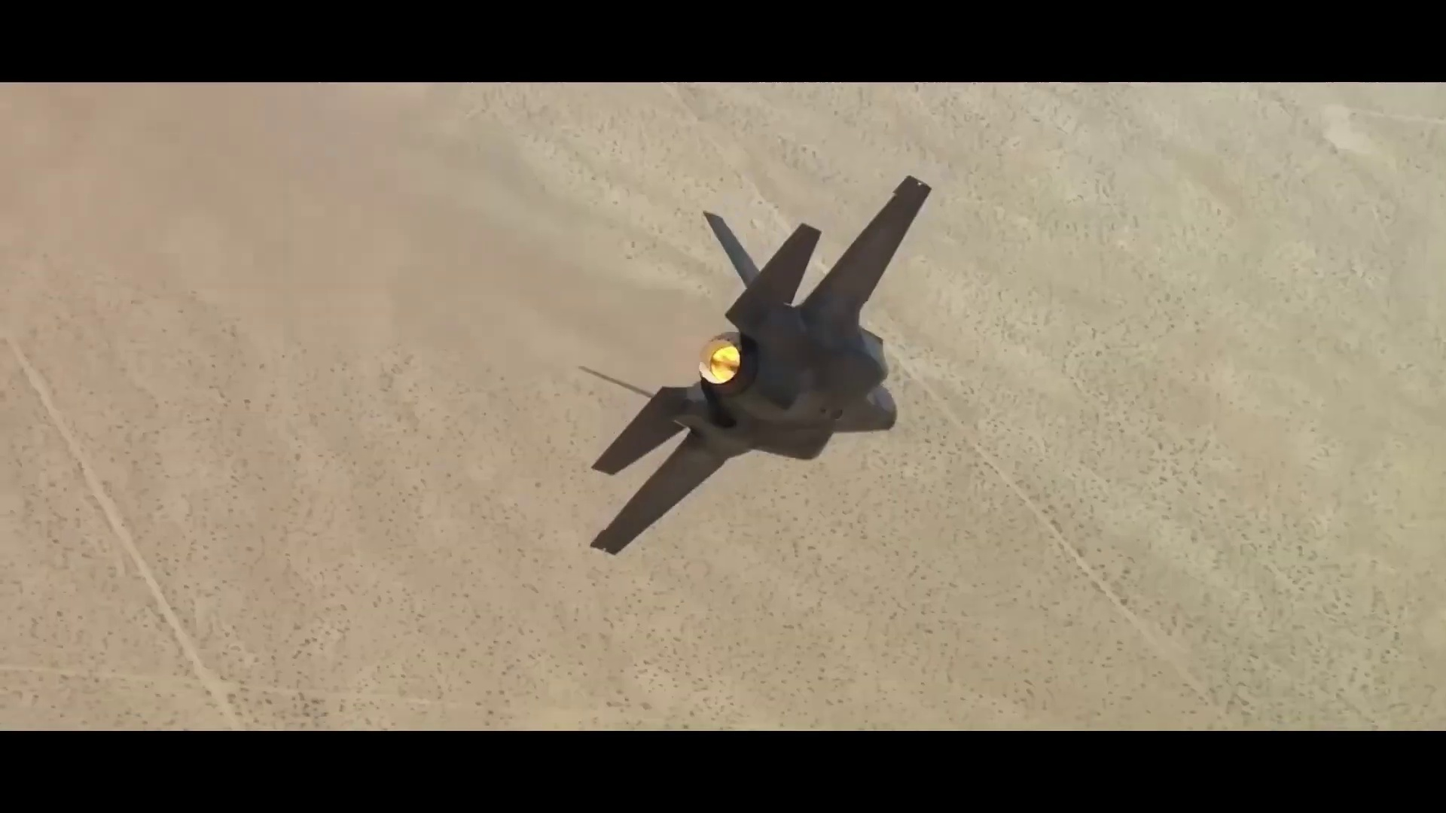F35: (584, 178, 930, 559)
